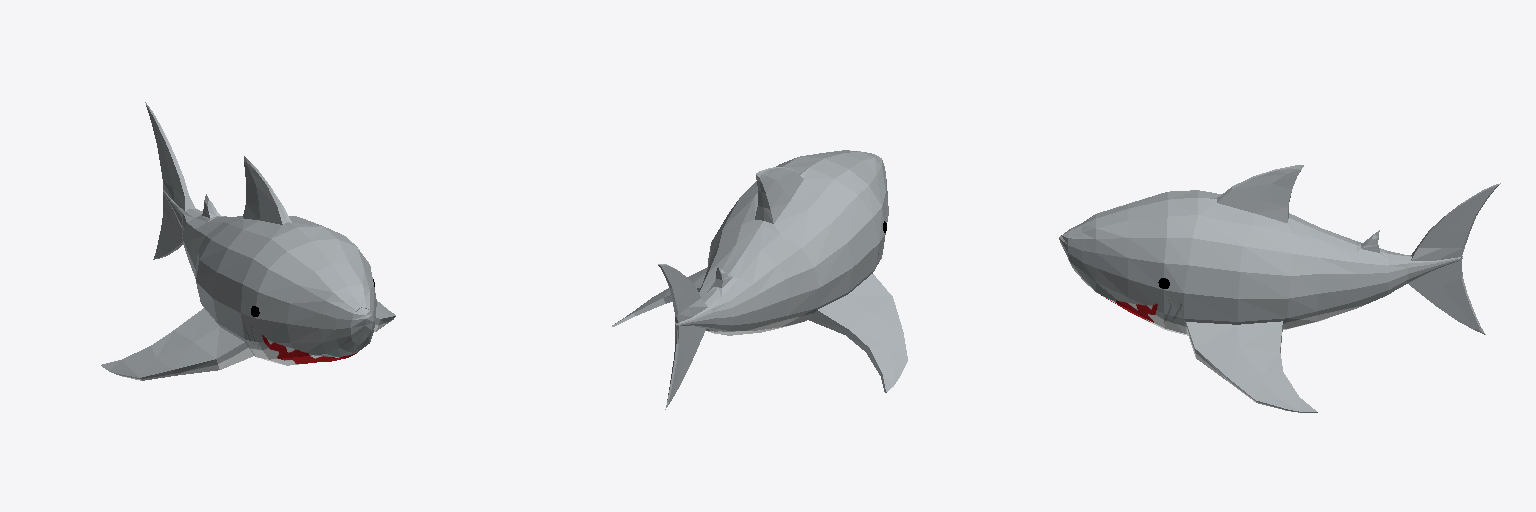
3 views of the same model, side by side, from view 1: azimuth 30°, elevation 25°; view 2: azimuth 150°, elevation 25°; view 3: azimuth 270°, elevation 25° (orthographic).
Parts seen in each view (by area): view 1: Cube.001; view 2: Cube.001; view 3: Cube.001.
Part boxes in pixels (x1,y1,x2,y2): Cube.001: (101, 102, 395, 380); Cube.001: (612, 150, 907, 409); Cube.001: (1059, 165, 1500, 412).
Bounding box in the file's own units: 3.49 × 2.22 × 4.88.
1 materials, 1 textured.